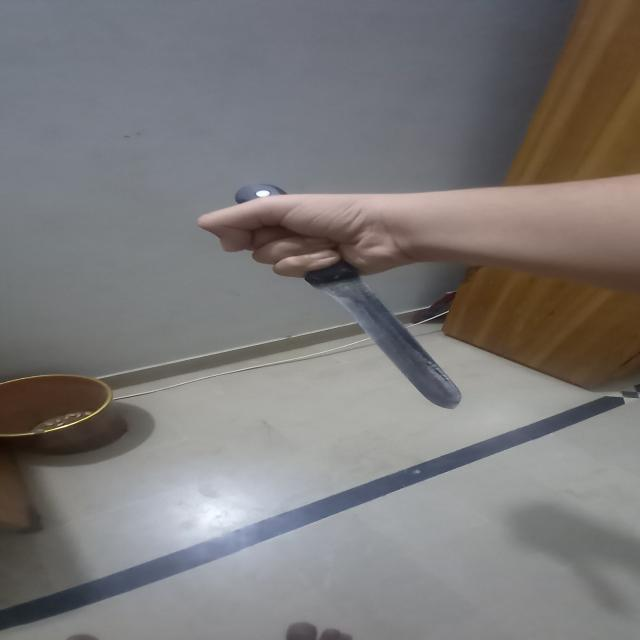Knife: (214, 175, 474, 412)
